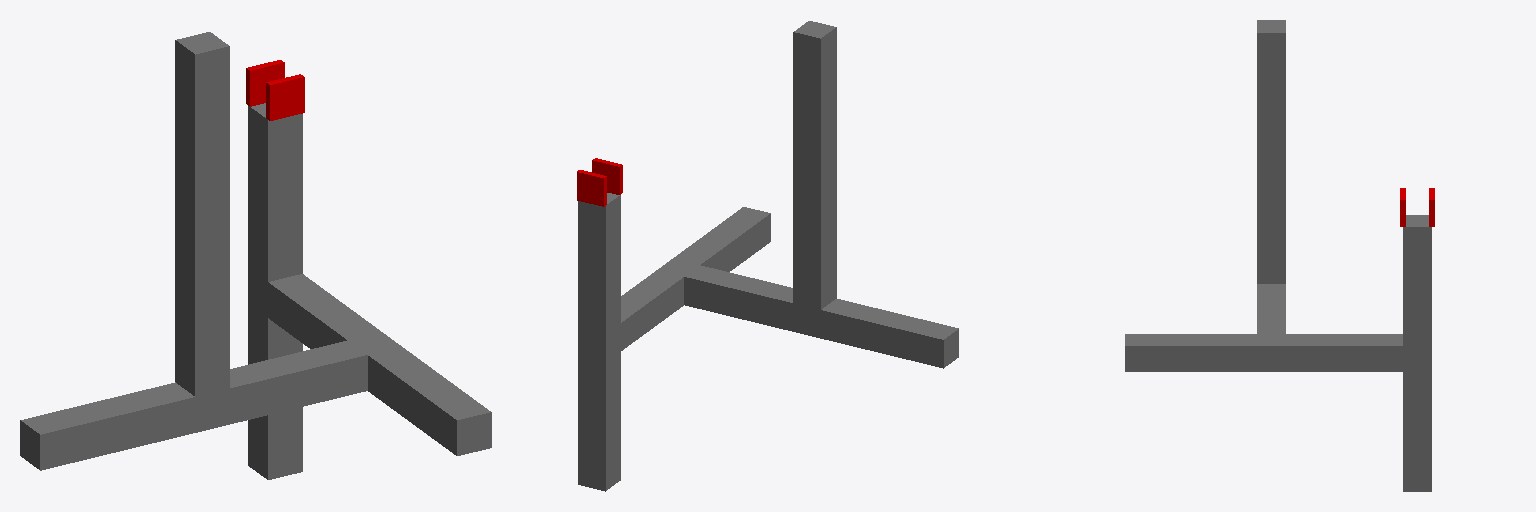
robot.urdf — catcher:
<?xml version="1.0"?>
<robot name="catcher">
    <link name="base">
        <inertial>
            <mass value="0.0"/>
            <inertia ixx="0.0" ixy="0.0" ixz="0.0" iyy="0.0" iyz="0.0" izz="0.0"/>
        </inertial>
        <visual>
            <origin xyz="0.0 0.0 0.0" rpy="0.0 0.0 0.0"/>
            <geometry>
                <box size="0.1 0.1 1.0"/>
            </geometry>
            <material name="grey">
                <color rgba="0.5 0.5 0.5 1.0"/>
            </material>
        </visual>
        <collision>
            <origin xyz="0.0 0.0 0.0" rpy="0.0 0.0 0.0"/>
            <geometry>
                <box size="0.1 0.1 1.0"/>
            </geometry>
        </collision>
    </link>

    <link name="x_link">
        <inertial>
            <origin xyz="0.0 0.0 0.0" rpy="0.0 0.0 0.0"/>
            <mass value="1.0"/>
            <inertia ixx="1.0" ixy="0.0" ixz="0.0" iyy="1.0" iyz="0.0" izz="1.0"/>
        </inertial>
        <visual>
            <origin xyz="0.0 0.0 0.0" rpy="0.0 0.0 0.0"/>
            <geometry>
                <box size="1.0 0.1 0.1"/>
            </geometry>
            <material name="grey">
                <color rgba="0.5 0.5 0.5 1.0"/>
            </material>
        </visual>
    </link>

    <joint name="base2x_link" type="prismatic">
        <parent link="base"/>
        <child link="x_link"/>
        <axis xyz="1.0 0.0 0.0"/>
        <origin xyz="0.0 0.0 -0.5" rpy="0.0 0.0 0.0"/>
        <limit lower="-0.5" upper="0.5" limit="20.0"/>
    </joint>

    <link name="y_link">
        <inertial>
            <origin xyz="0.0 0.0 0.0" rpy="0.0 0.0 0.0"/>
            <mass value="1.0"/>
            <inertia ixx="1.0" ixy="0.0" ixz="0.0" iyy="1.0" iyz="0.0" izz="1.0"/>
        </inertial>
        <visual>
            <origin xyz="0.0 0.0 0.0" rpy="0.0 0.0 0.0"/>
            <geometry>
                <box size="0.1 1.0 0.1"/>
            </geometry>
            <material name="grey">
                <color rgba="0.5 0.5 0.5 1.0"/>
            </material>
        </visual>
    </link>

    <joint name="x_link2y_link" type="prismatic">
        <parent link="x_link"/>
        <child link="y_link"/>
        <axis xyz="0.0 1.0 0.0"/>
        <origin xyz="0.5 0.0 0.0" rpy="0.0 0.0 0.0"/>
        <limit lower="-0.5" upper="0.5" limit="20.0"/>
    </joint>

    <link name="z_link">
        <inertial>
            <origin xyz="0.0 0.0 0.0" rpy="0.0 0.0 0.0"/>
            <mass value="1.0"/>
            <inertia ixx="1.0" ixy="0.0" ixz="0.0" iyy="1.0" iyz="0.0" izz="1.0"/>
        </inertial>
        <visual>
            <origin xyz="0.0 0.0 0.0" rpy="0.0 0.0 0.0"/>
            <geometry>
                <box size="0.1 0.1 1.0"/>
            </geometry>
            <material name="grey">
                <color rgba="0.5 0.5 0.5 1.0"/>
            </material>
        </visual>
    </link>

    <joint name="y_link2z_link" type="prismatic">
        <parent link="y_link"/>
        <child link="z_link"/>
        <axis xyz="0.0 0.0 1.0"/>
        <origin xyz="0.0 0.5 0.0" rpy="0.0 0.0 0.0"/>
        <limit lower="-0.5" upper="0.5" limit="20.0"/>
    </joint>

    <link name="holder_top">
        <inertial>
            <origin xyz="0.0 0.0 0.0" rpy="0.0 0.0 0.0"/>
            <mass value="1.0"/>
            <inertia ixx="1.0" ixy="0.0" ixz="0.0" iyy="1.0" iyz="0.0" izz="1.0"/>
        </inertial>
        <visual>
            <origin xyz="0.0 0.0 0.0" rpy="0.0 0.0 0.0"/>
            <geometry>
                <box size="0.1 0.1 0.02"/>
            </geometry>
            <material name="grey">
                <color rgba="0.5 0.5 0.5 1.0"/>
            </material>
        </visual>
    </link>

    <joint name="z_link2holder_top" type="continuous">
        <parent link="z_link"/>
        <child link="holder_top"/>
        <axis xyz="0.0 0.0 1.0"/>
        <origin xyz="0.0 0.0 0.49" rpy="0.0 0.0 0.0"/>
    </joint>

    <link name="holder_left">
        <inertial>
            <origin xyz="0.0 0.0 0.0" rpy="0.0 0.0 0.0"/>
            <mass value="1.0"/>
            <inertia ixx="1.0" ixy="0.0" ixz="0.0" iyy="1.0" iyz="0.0" izz="1.0"/>
        </inertial>
        <visual>
            <origin xyz="0.0 0.0 0.05" rpy="0.0 0.0 0.0"/>
            <geometry>
                <box size="0.1 0.02 0.1"/>
            </geometry>
            <material name="red">
                <color rgba="0.9 0.0 0.0 1.0"/>
            </material>
        </visual>
        <collision>
            <origin xyz="0.0 0.0 0.05" rpy="0.0 0.0 0.0"/>
            <geometry>
                <box size="0.1 0.02 0.1"/>
            </geometry>
        </collision>
        <contact>
            <lateral_friction value="10000.0"/>
            <rolling_friction value="0.0"/>
        </contact>
    </link>

    <link name="holder_right">
        <inertial>
            <origin xyz="0.0 0.0 0.0" rpy="0.0 0.0 0.0"/>
            <mass value="1.0"/>
            <inertia ixx="1.0" ixy="0.0" ixz="0.0" iyy="1.0" iyz="0.0" izz="1.0"/>
        </inertial>
        <visual>
            <origin xyz="0.0 0.0 0.05" rpy="0.0 0.0 0.0"/>
            <geometry>
                <box size="0.1 0.02 0.1"/>
            </geometry>
            <material name="red">
                <color rgba="0.9 0.0 0.0 1.0"/>
            </material>
        </visual>
        <collision>
            <origin xyz="0.0 0.0 0.05" rpy="0.0 0.0 0.0"/>
            <geometry>
                <box size="0.1 0.02 0.1"/>
            </geometry>
        </collision>
        <contact>
            <lateral_friction value="10000.0"/>
            <rolling_friction value="0.0"/>
        </contact>
    </link>

    <joint name="holder_top2holder_left" type="prismatic">
        <origin xyz="0.0 0.05 0.01" rpy="0.0 0.0 0.0"/>
        <parent link="holder_top"/>
        <child link="holder_left"/>
        <axis xyz="0.0 -1.0 0.0"/>
        <limit lower="0.0" upper="0.04"/>
    </joint>

    <joint name="holder_top2holder_right" type="prismatic">
        <origin xyz="0.0 -0.05 0.01" rpy="0.0 0.0 0.0"/>
        <parent link="holder_top"/>
        <child link="holder_right"/>
        <axis xyz="0.0 1.0 0.0"/>
        <limit lower="0.0" upper="0.04"/>
    </joint>

</robot>

--- Facts derived from the render (not from the file) ---
Views: 3 orthographic renders of the robot side by side, from view 1: azimuth 30°, elevation 25°; view 2: azimuth 150°, elevation 25°; view 3: azimuth 270°, elevation 25°.
Model catcher with 7 links and 6 joints (1 continuous, 5 prismatic), rooted at base, posed all joints at 0.
Links seen in each view (by area): view 1: base, x_link, z_link, y_link, holder_right, holder_left; view 2: base, z_link, x_link, y_link, holder_left, holder_right; view 3: y_link, base, z_link, x_link.
Boxes of the visible links, left/top/right/bottom form: base: left=175, top=32, right=229, bottom=414; x_link: left=20, top=338, right=383, bottom=470; z_link: left=248, top=103, right=302, bottom=479; y_link: left=258, top=274, right=491, bottom=455; holder_right: left=266, top=74, right=304, bottom=120; holder_left: left=246, top=60, right=284, bottom=106; base: left=793, top=21, right=836, bottom=323; z_link: left=578, top=193, right=620, bottom=491; x_link: left=672, top=262, right=958, bottom=368; y_link: left=617, top=207, right=770, bottom=353; holder_left: left=577, top=170, right=606, bottom=206; holder_right: left=592, top=158, right=622, bottom=194; y_link: left=1125, top=334, right=1416, bottom=371; base: left=1257, top=20, right=1285, bottom=283; z_link: left=1403, top=215, right=1431, bottom=491; x_link: left=1257, top=284, right=1285, bottom=339.
Size in the robot's own frame: 1.05 by 1.06 by 1.5 metres.
Geometry: primitives only (box / cylinder / sphere), no mesh files.